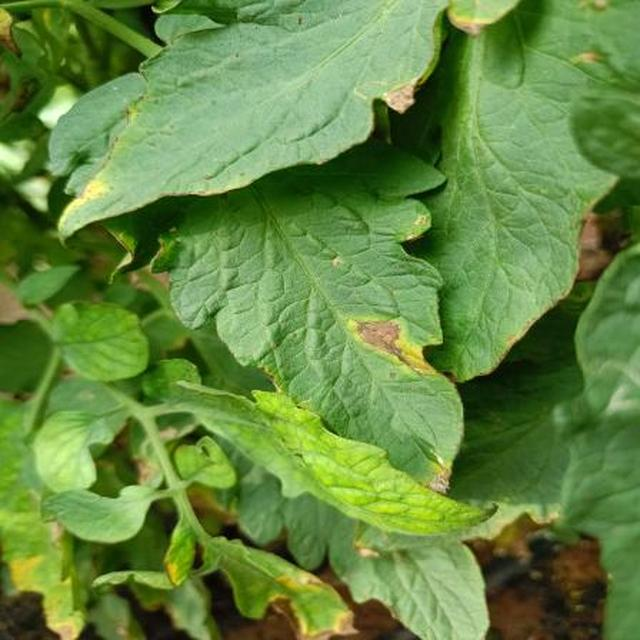Early Blight Leaf: (233, 206, 640, 640)
